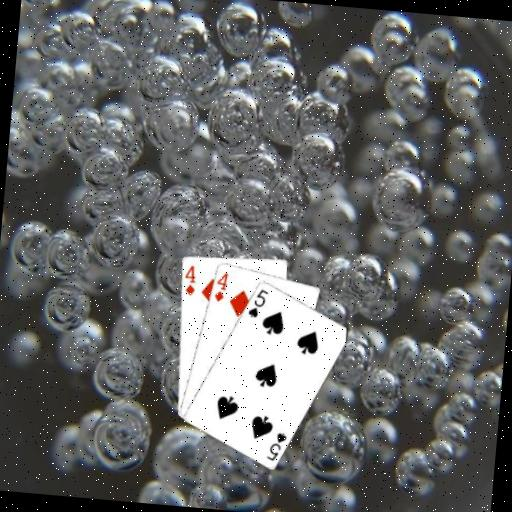4D: (211, 268, 230, 303), (180, 262, 198, 298)
5S: (244, 285, 270, 320), (263, 429, 289, 464)
